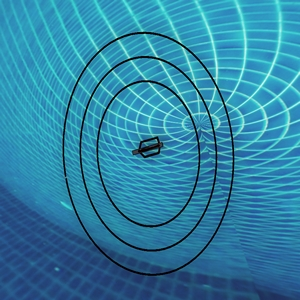circle: (59, 24, 263, 284)
submarine: (135, 135, 163, 158)
